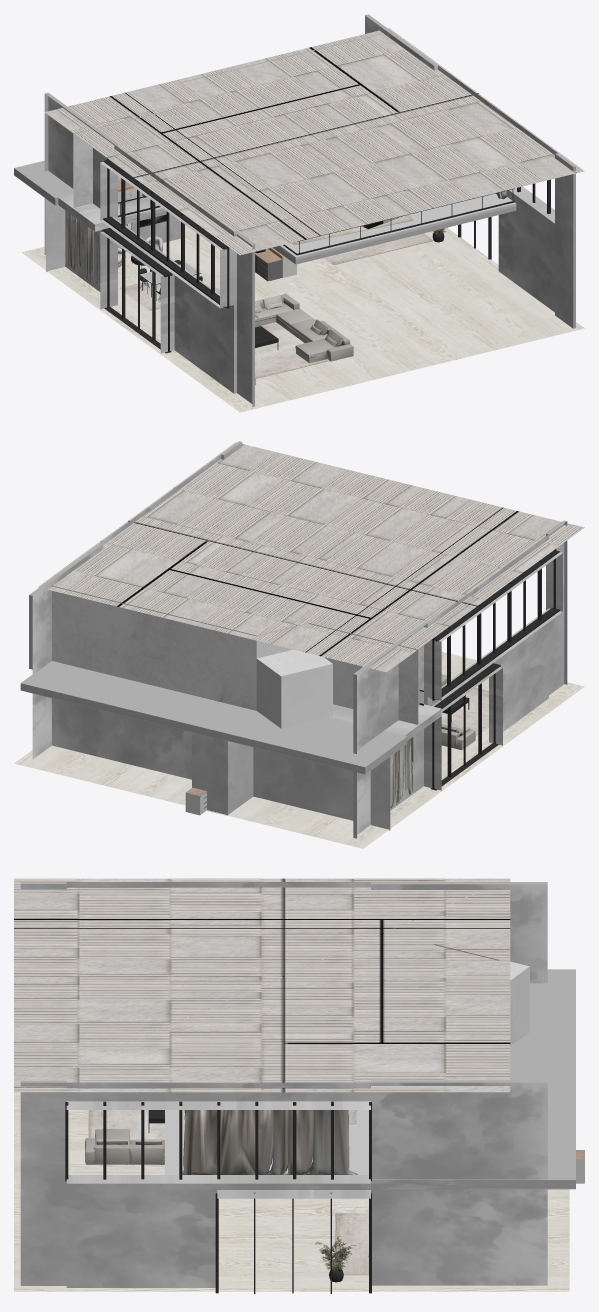
The model's file is apt_i14.glb.
3 views of the same model, one above another, from view 1: azimuth 30°, elevation 25°; view 2: azimuth 150°, elevation 25°; view 3: azimuth 270°, elevation 25° (orthographic). The views are drawn at different scales.
Parts seen in each view (by area): view 1: i14; view 2: i14; view 3: i14.
Part boxes in pixels (x1=…): i14: x1=14, y1=14, x2=584, y2=412; i14: x1=14, y1=441, x2=584, y2=848; i14: x1=14, y1=878, x2=584, y2=1293.
Bounding box in the file's own units: 11.54 × 5.05 × 12.58.
Materials: 21 (20 with a texture image).
